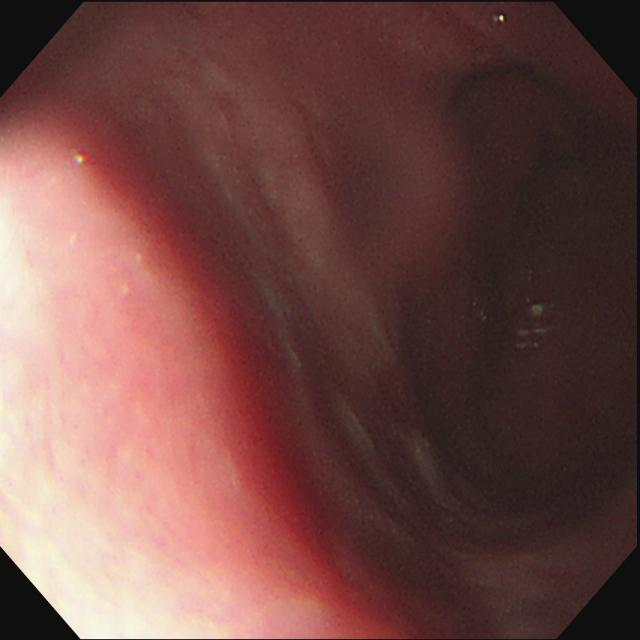U: (529, 299, 552, 323), (488, 11, 514, 32), (71, 151, 92, 169)
